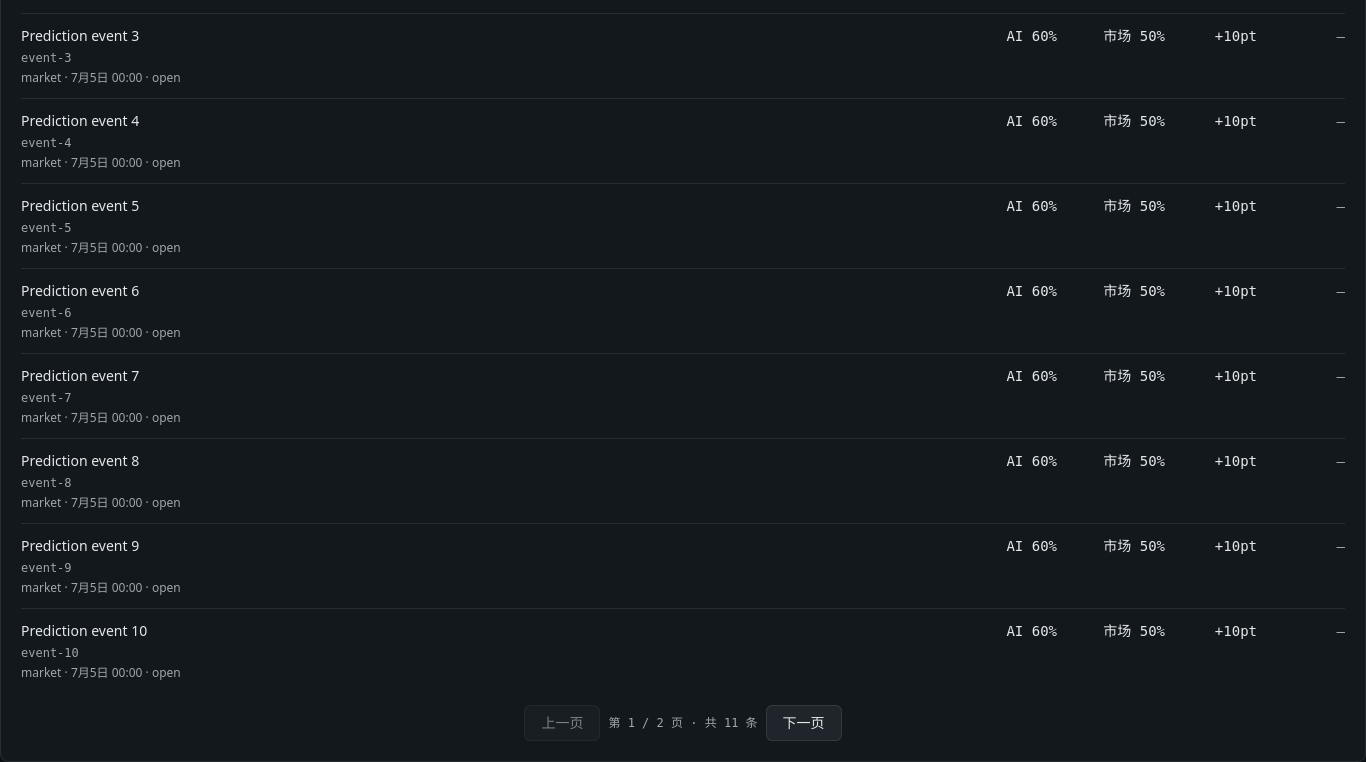
Test: RecentPredictions › paginates recent predictions with 10 records per page
(page scrolled)
Expected: the text "Prediction event 11" is not shown
Click the button "下一页" at [804, 723], box 766,705 -> 842,741
(page scrolled)
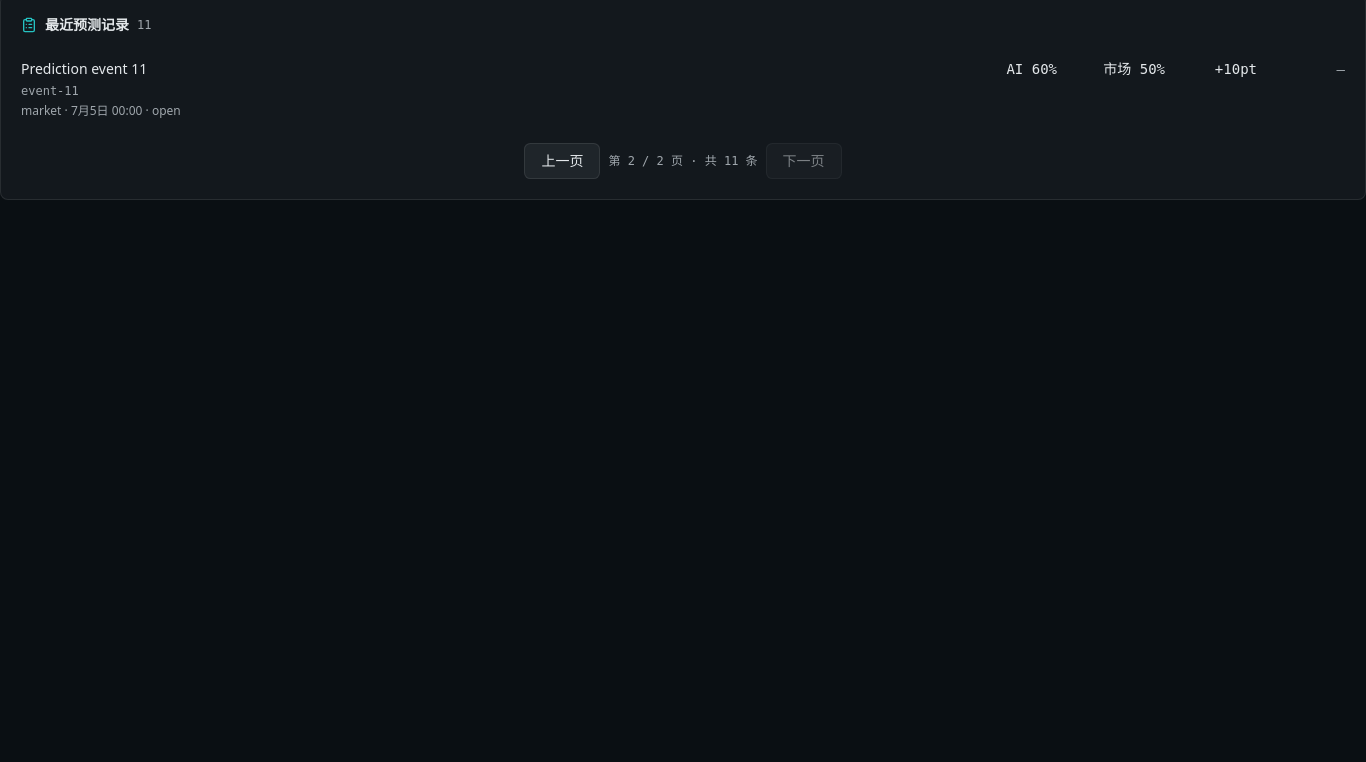
Expected: the link "Prediction event 11" is shown, 21,59 -> 147,78
